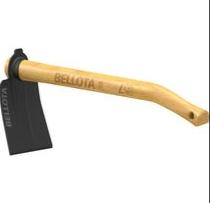HOUE: (0, 5, 210, 172)
